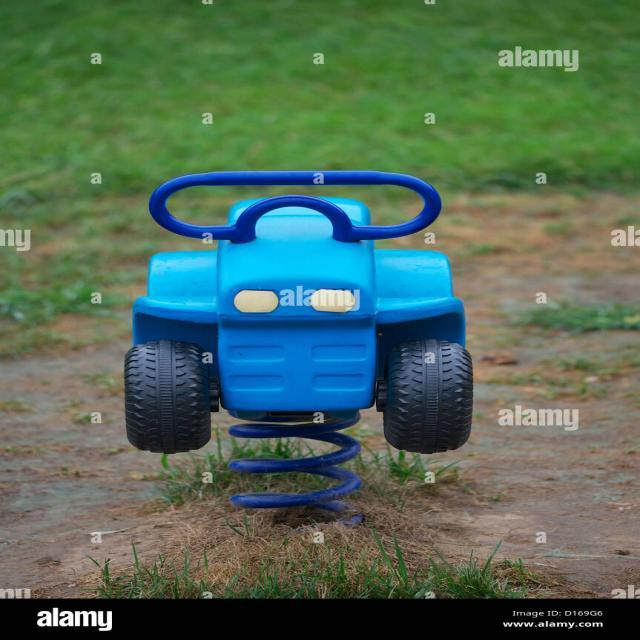hard-toy: (125, 171, 473, 512)
